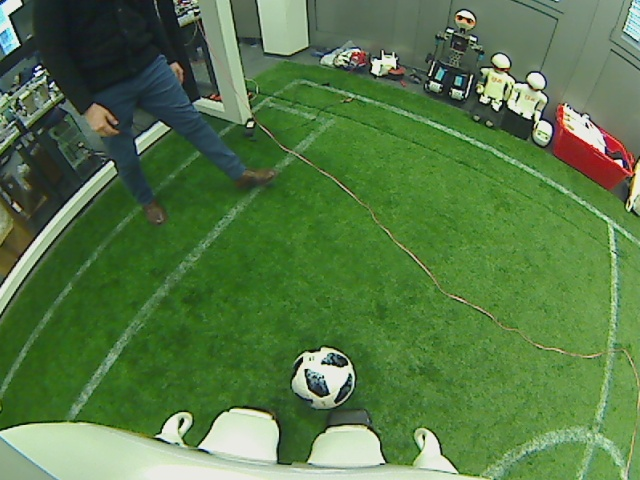ball: (289, 345, 356, 410)
